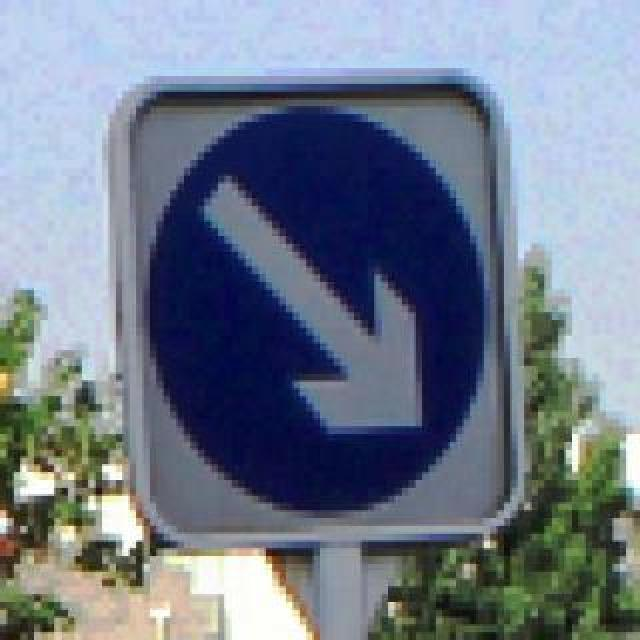keep right: (136, 92, 484, 518)
